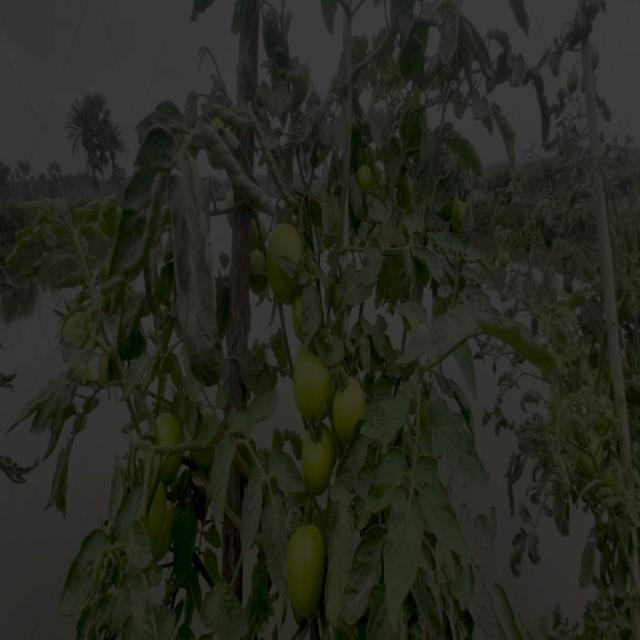tomato: (276, 522, 331, 627), (290, 350, 330, 423), (144, 494, 180, 564), (273, 225, 307, 297), (154, 412, 186, 484), (300, 428, 333, 495), (335, 370, 365, 443), (247, 224, 270, 299), (198, 408, 222, 475), (198, 129, 237, 170), (571, 428, 605, 475), (292, 301, 327, 344), (62, 311, 96, 355), (81, 358, 116, 391), (215, 186, 242, 225), (392, 178, 416, 214), (447, 198, 471, 228), (596, 397, 619, 426), (354, 166, 375, 193), (497, 248, 514, 271)
